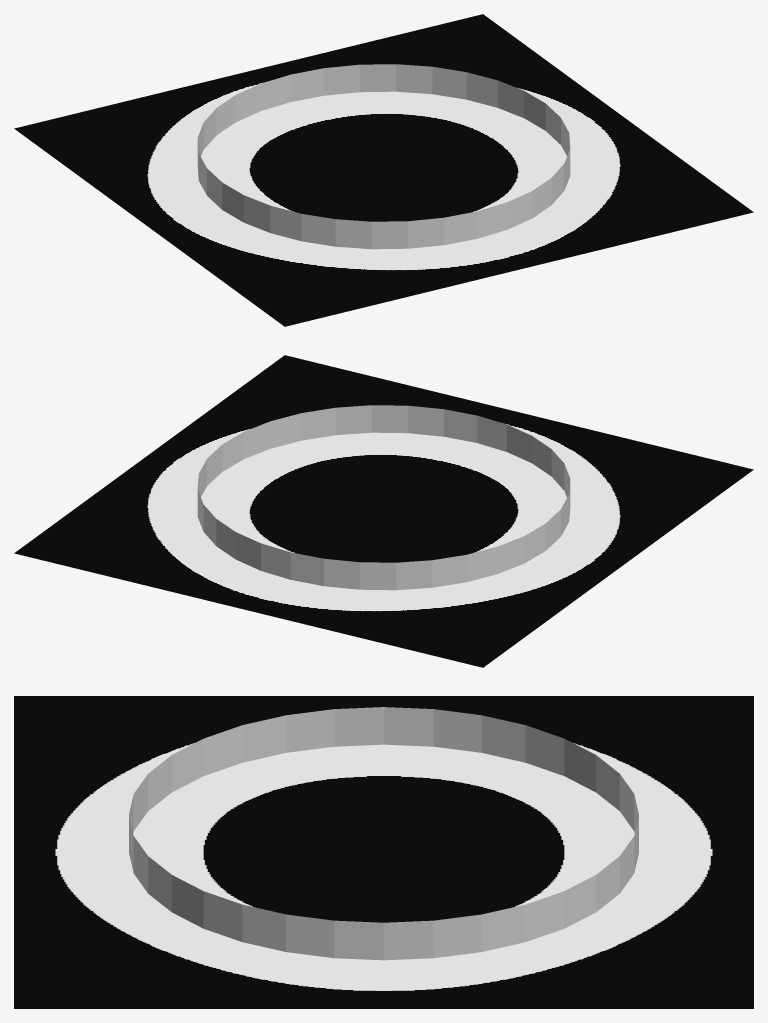
Rendered from target.fbx.
3 views of the same model, one above another, from view 1: azimuth 30°, elevation 25°; view 2: azimuth 150°, elevation 25°; view 3: azimuth 270°, elevation 25° (orthographic). The views are drawn at different scales.
Parts seen in each view (by area): view 1: Plane, Cylinder; view 2: Plane, Cylinder; view 3: Plane, Cylinder.
Part boxes in pixels (left/top/right/bottom): Plane: left=14, top=14, right=753, bottom=326; Cylinder: left=197, top=64, right=570, bottom=249; Plane: left=14, top=355, right=753, bottom=667; Cylinder: left=197, top=405, right=570, bottom=590; Plane: left=14, top=696, right=753, bottom=1008; Cylinder: left=129, top=707, right=638, bottom=960.
Size of the model in its own units: 200 by 22.44 by 200.
